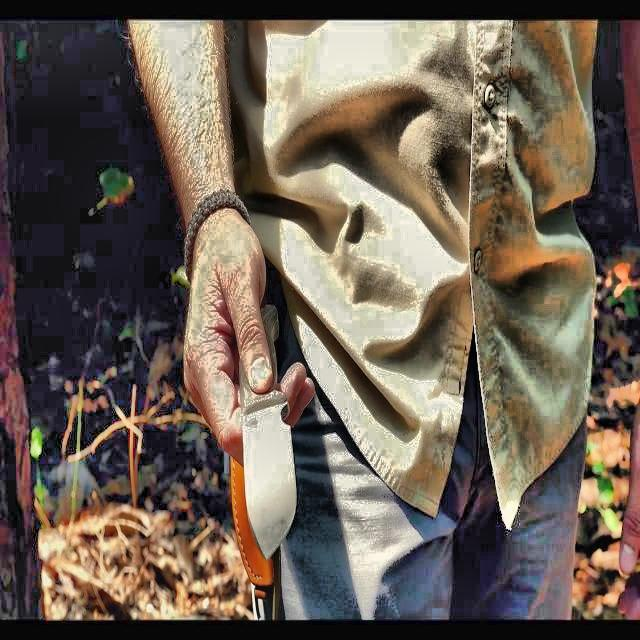knife: (240, 306, 296, 561)
